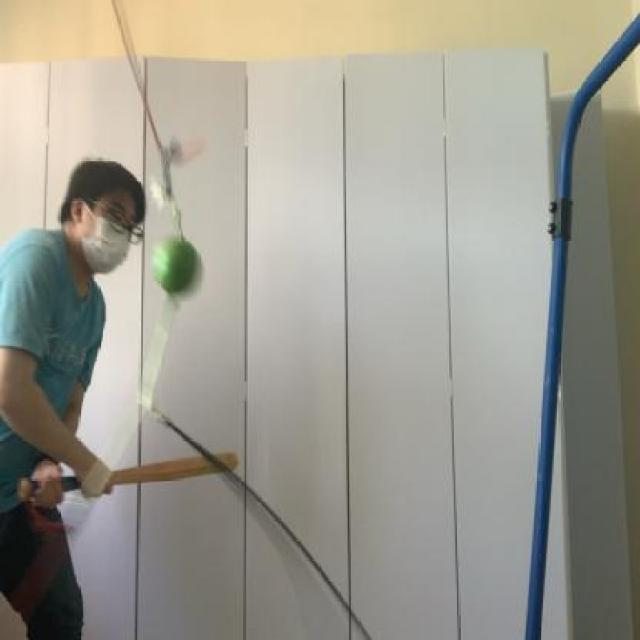baseball: (147, 230, 210, 304)
